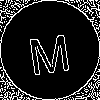M: (25, 25, 73, 76)
